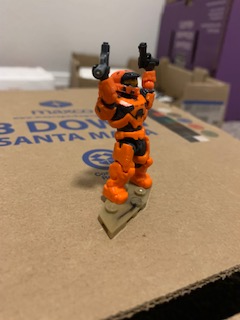pistol: (136, 40, 161, 72)
spartan: (92, 63, 161, 205)
up: (91, 61, 159, 131)
